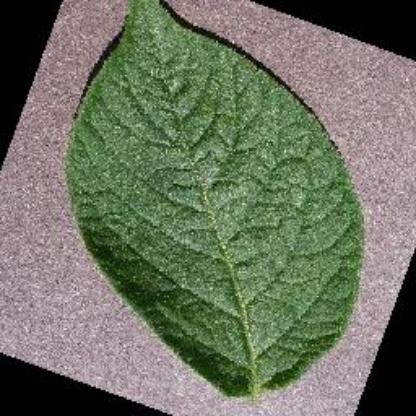Healthy-plant: (66, 3, 364, 398)
